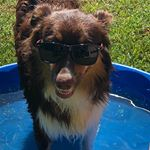puppy: (17, 4, 117, 150)
